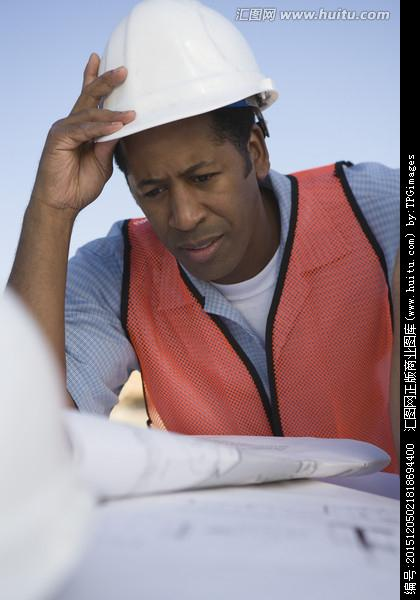helmet: (91, 6, 284, 141)
